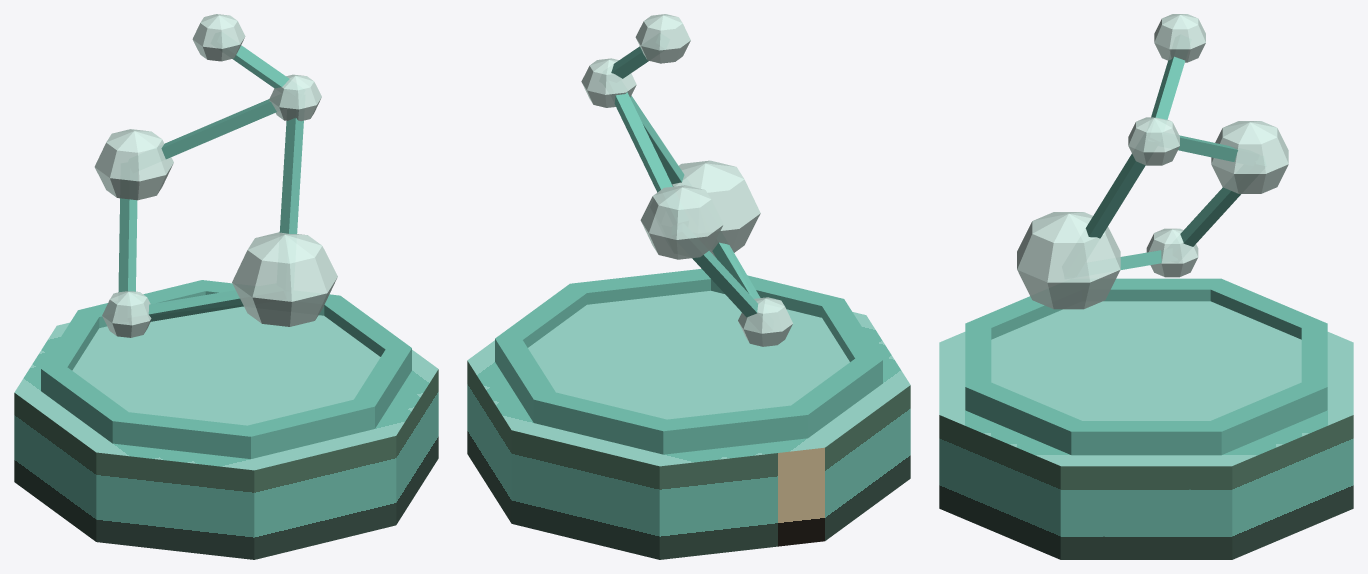
The model's file is glass_bead_game.gltf.
3 views of the same model, side by side, from view 1: azimuth 30°, elevation 25°; view 2: azimuth 150°, elevation 25°; view 3: azimuth 270°, elevation 25° (orthographic). The views are drawn at different scales.
Visible parts, largest first — view 1: glass_bead_game; view 2: glass_bead_game; view 3: glass_bead_game.
Boxes of the visible parts, <box> form: glass_bead_game: <box>14,14,438,559</box>; glass_bead_game: <box>467,14,910,559</box>; glass_bead_game: <box>939,14,1353,559</box>.
Size of the model in its own units: 1 by 1.23 by 1.
Materials: 5 (5 with a texture image).
